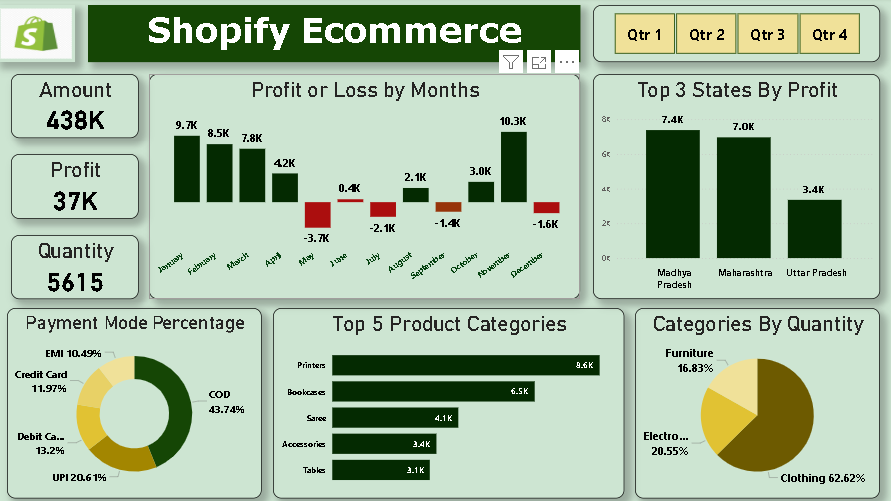

The dashboard page shown, as its layout file describes it:
{"tool":"powerbi","page":{"name":"Page 1","canvas":[1280,720],"ordinal":0},"visuals":[{"type":"textbox","box":[128.4,10,697.8,81.3],"z":0},{"type":"image","box":[0,10,111.3,81.3],"z":1000},{"type":"columnChart","title":"Profit or Loss by Months","fields":{"Y":["Sum(Products.Profit)"],"Category":["Orders.Order Date.Variation.Date Hierarchy.Month"]},"box":[215.5,131.3,610.7,295.4],"z":2000},{"type":"barChart","title":"Top 5 Product Categories","fields":{"Category":["Products.Sub-Category"],"Y":["Sum(Products.Profit)"]},"box":[391,439.5,498,269.7],"z":3000},{"type":"pieChart","title":"Categories By Quantity","fields":{"Category":["Products.Category"],"Y":["Sum(Products.Quantity)"]},"box":[904.7,439.5,346.8,269.7],"z":4000},{"type":"donutChart","title":"Payment Mode Percentage","fields":{"Y":["Sum(Products.Quantity)"],"Category":["Products.PaymentMode"]},"box":[14.3,439.5,361,269.7],"z":5000},{"type":"columnChart","title":"Top 3 States By Profit","fields":{"Category":["Orders.State"],"Y":["Sum(Products.Profit)"]},"box":[844.8,131.3,406.7,295.4],"z":5001},{"type":"card","title":"Amount","fields":{"Values":["Sum(Products.Amount)"]},"box":[20,131.3,181.2,91.3],"z":5002},{"type":"card","title":"Profit","fields":{"Values":["Sum(Products.Profit)"]},"box":[20,234,181.2,91.3],"z":5003},{"type":"card","title":"Quantity","fields":{"Values":["Sum(Products.Quantity)"]},"box":[20,335.3,181.2,91.3],"z":5004},{"type":"slicer","fields":{"Values":["Orders.Order Date.Variation.Date Hierarchy.Quarter"]},"box":[844.8,10,406.7,81.3],"z":5005}]}

Visuals, with their boxes in screenshot pixels (x1, y1, x2, y2), scaled from the page's 1280x720 canvas onto the 891x501 screenshot:
textbox: [89, 7, 575, 64]
image: [0, 7, 77, 64]
"Profit or Loss by Months" columnChart: [150, 91, 575, 297]
"Top 5 Product Categories" barChart: [272, 306, 619, 493]
"Categories By Quantity" pieChart: [630, 306, 871, 493]
"Payment Mode Percentage" donutChart: [10, 306, 261, 493]
"Top 3 States By Profit" columnChart: [588, 91, 871, 297]
"Amount" card: [14, 91, 140, 155]
"Profit" card: [14, 163, 140, 226]
"Quantity" card: [14, 233, 140, 297]
slicer - Orders.Order Date.Variation.Date Hierarchy.Quarter: [588, 7, 871, 64]
